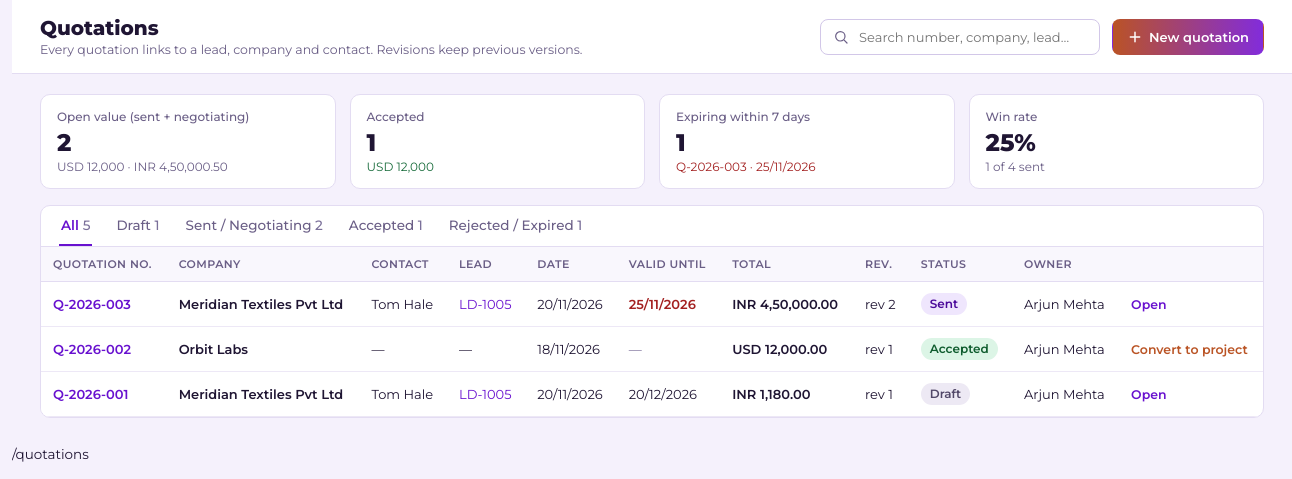
Test: Quotations list (prototype V.quotes) › the tab and the search go to the URL and the request
The width and height of the screenshot is (1292, 479).
Step 1. Click the tab "Sent / Negotiating 2" → (254, 226), box [184,206,325,246]
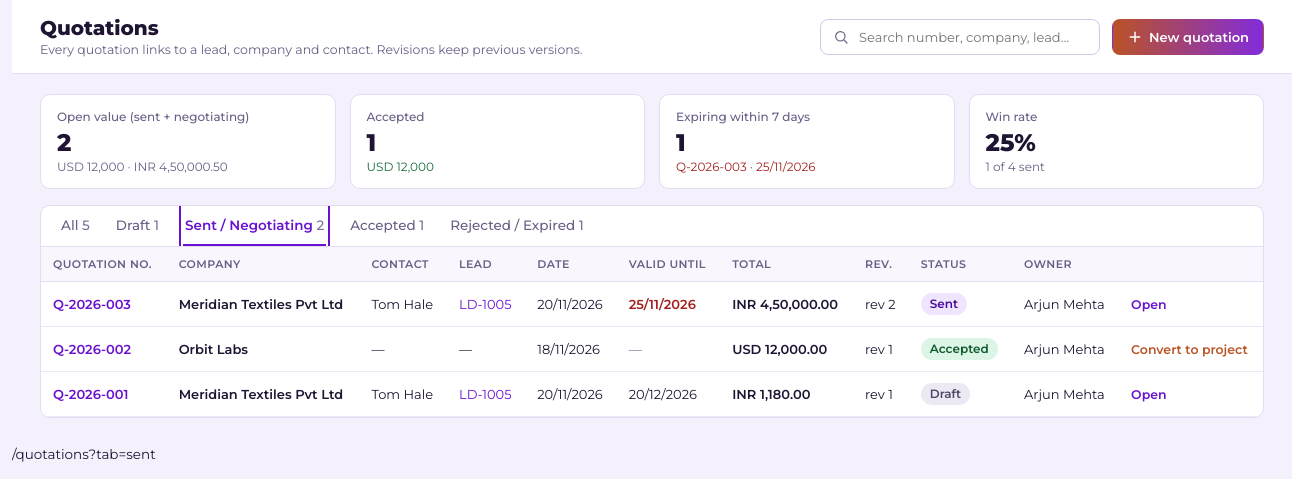
Check: the text with test id "where" reads "/quotations?tab=sent", box [12,446,156,462]
Step 2. Type "orbit" into the search field named "Search quotations" → (972, 36), box [857,28,1087,46]
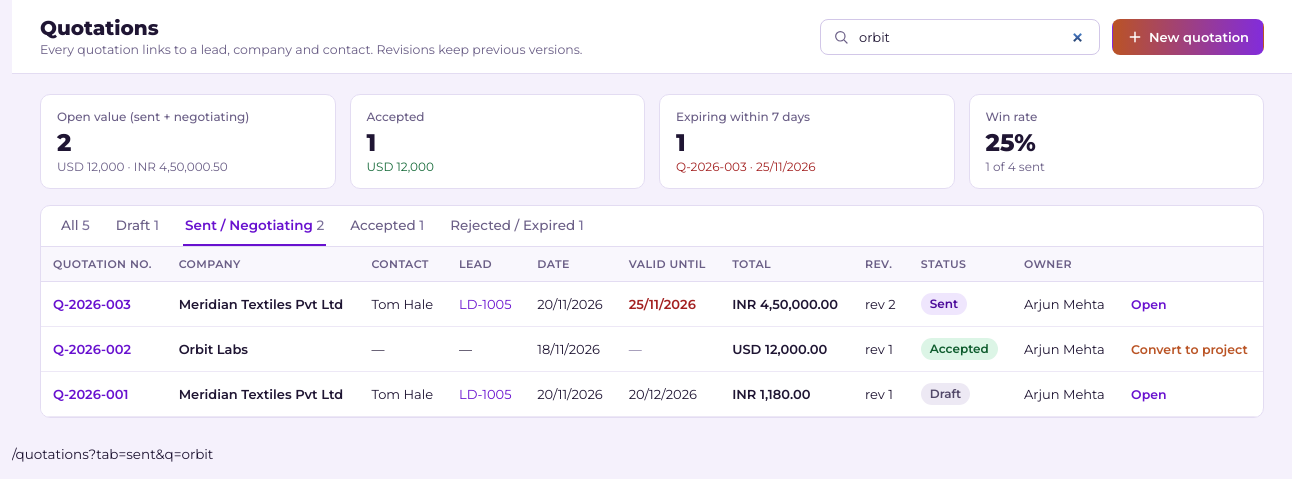
Check: the text with test id "where" reads "/quotations?tab=sent&q=orbit", box [12,446,213,462]
